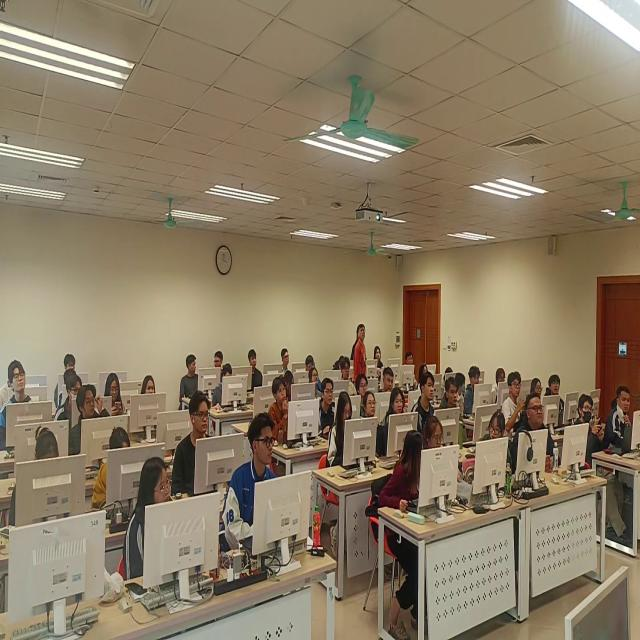raise_head: (223, 414, 279, 562), (125, 457, 177, 584), (598, 385, 637, 550), (171, 393, 213, 500), (512, 393, 557, 478), (71, 385, 112, 461), (419, 418, 452, 492), (2, 362, 33, 437), (358, 390, 383, 459), (503, 373, 529, 438), (269, 378, 291, 446), (318, 380, 337, 444), (545, 375, 566, 429), (133, 375, 158, 420), (103, 373, 126, 418), (440, 377, 462, 419), (386, 385, 407, 428), (355, 374, 371, 416), (306, 356, 321, 394), (374, 346, 386, 384), (63, 352, 79, 372), (141, 376, 157, 396), (420, 364, 431, 387), (281, 347, 291, 371), (446, 368, 455, 382), (406, 352, 414, 366), (333, 361, 343, 372)
stand: (353, 322, 368, 378)
using_computer: (9, 430, 68, 533), (91, 428, 135, 515), (329, 392, 363, 472), (464, 367, 485, 421), (1, 363, 16, 414), (63, 375, 81, 413), (283, 371, 295, 400), (531, 379, 543, 398), (457, 374, 467, 396), (497, 369, 506, 385)
using_phone: (577, 396, 607, 472), (414, 371, 437, 445), (213, 365, 236, 410), (105, 371, 126, 418), (335, 355, 356, 396), (378, 368, 396, 407), (249, 351, 265, 393)
